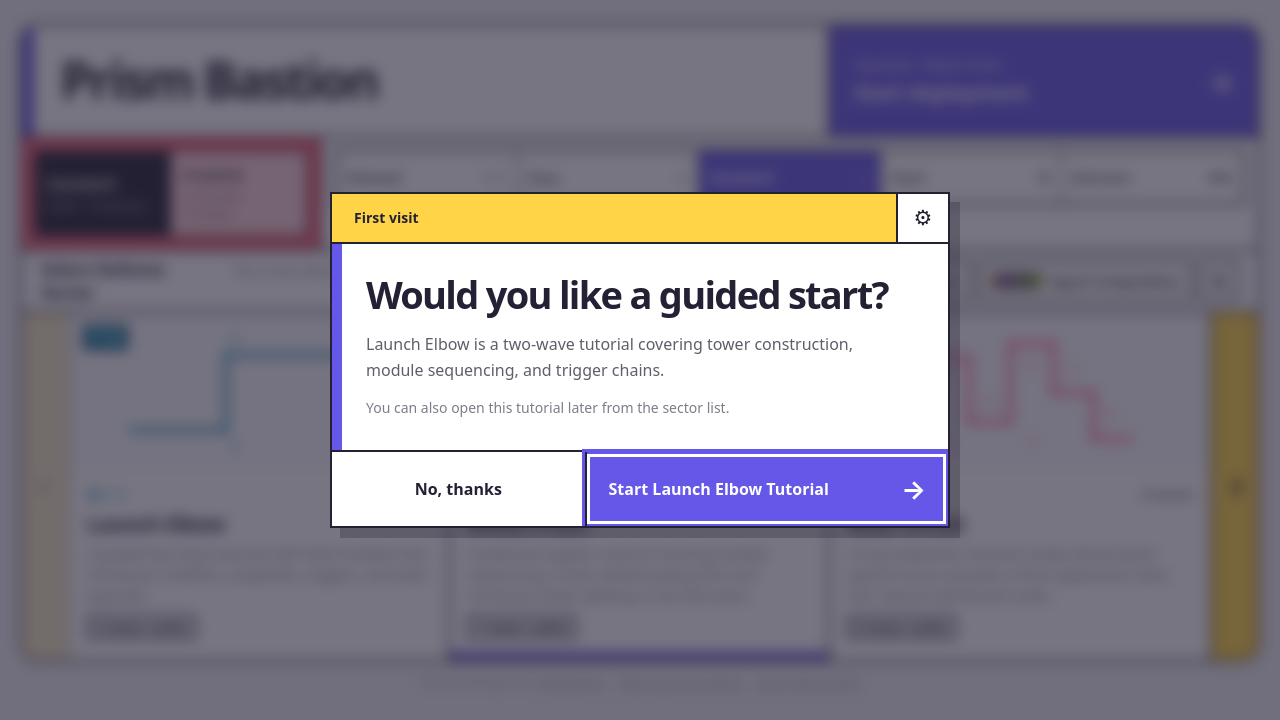
level selection accessibility › shows three level cards at a time and pages with arrow controls
The image size is (1280, 720).
Click the button "No, thanks" at (458, 489), box [332,452,584,526]
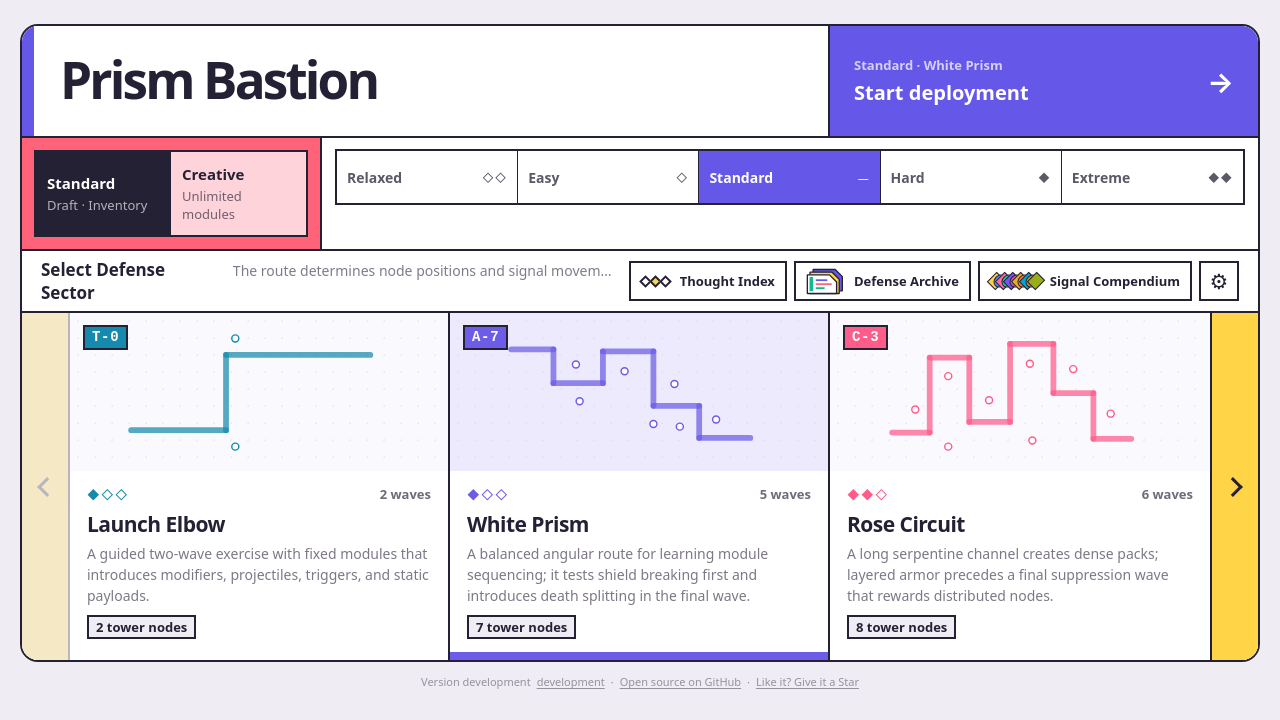
Expected: the element named "Choose defense sector" shows "Launch Elbow", [70,313,450,660]
Expected: the element "Choose defense sector" does not show "Verdant Fold"
Click the button named "Show next levels" at (1234, 487), box [1210,313,1258,660]
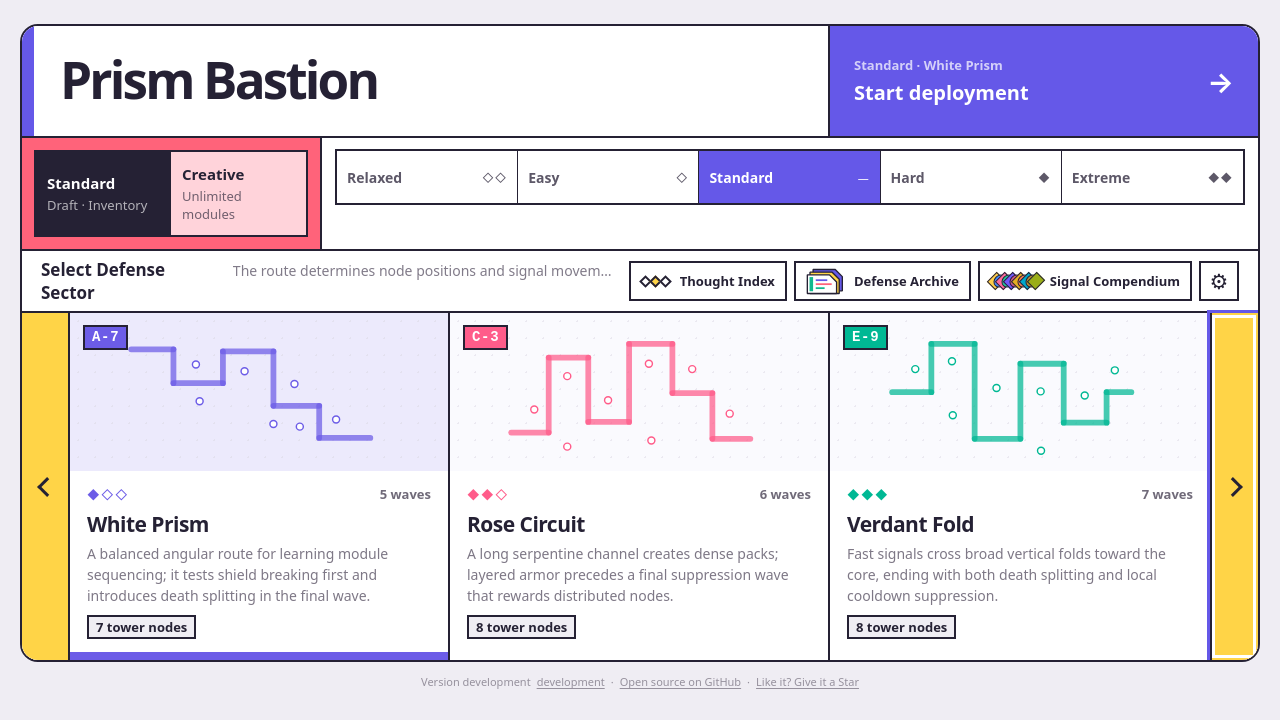
Now the radio button labelled "Choose defense sector" no longer shows "Launch Elbow"
Now the element named "Choose defense sector" shows "Verdant Fold", box [830,313,1210,660]
